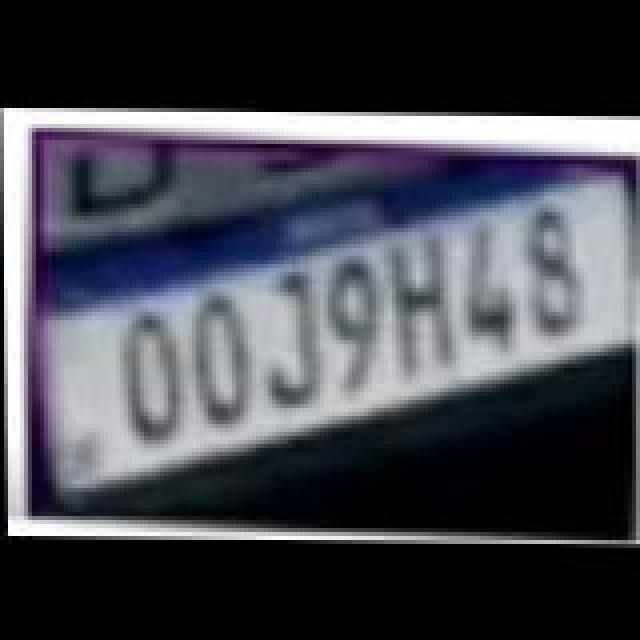4: (460, 220, 524, 352)
8: (524, 200, 588, 332)
9: (322, 250, 390, 390)
H: (382, 226, 458, 374)
J: (256, 266, 328, 406)
O: (120, 308, 192, 440), (190, 288, 258, 420)
